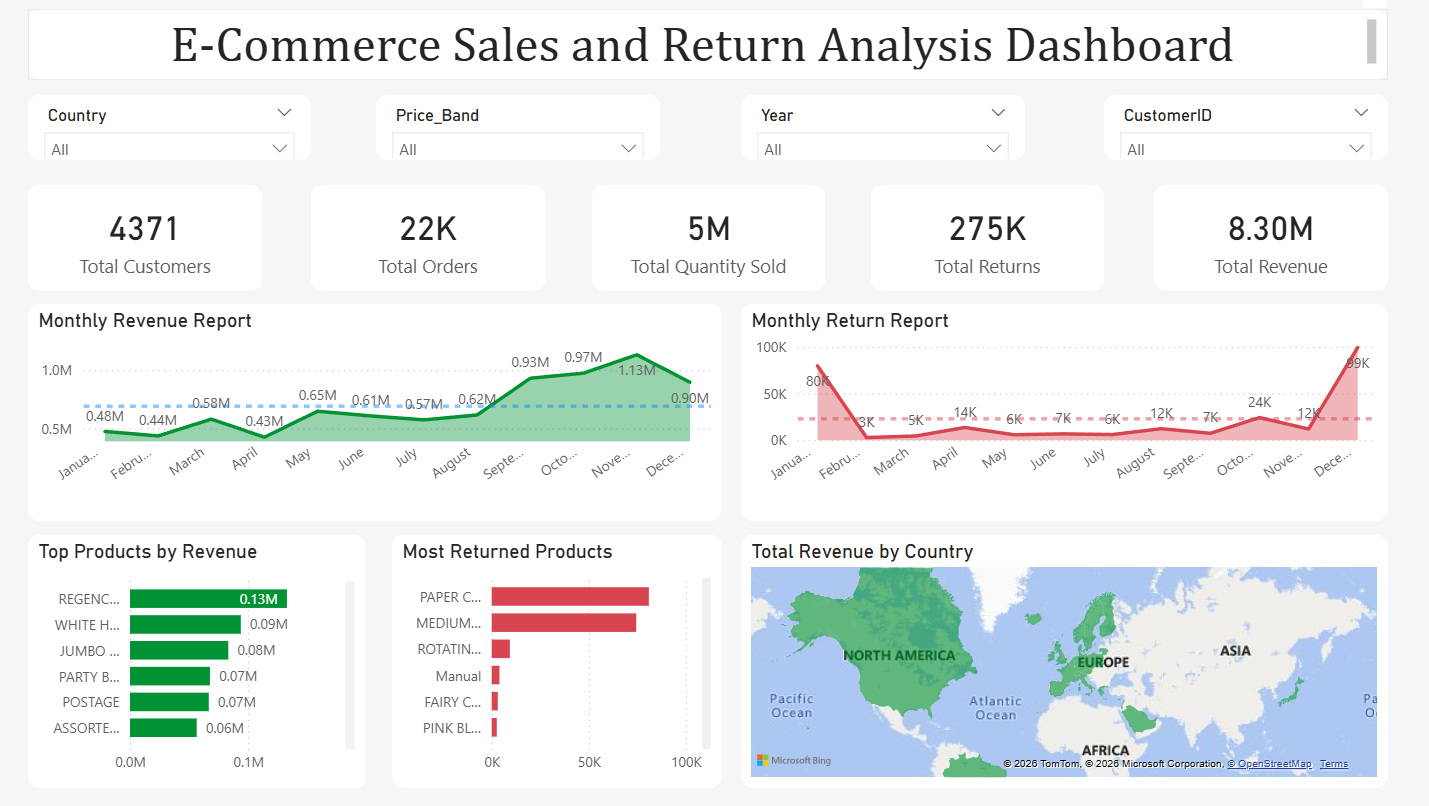

What the dashboard file says about the page in this screenshot:
{"tool":"powerbi","page":{"name":"Page 1","canvas":[1280,720],"ordinal":0},"visuals":[{"type":"card","fields":{"Values":["Count(actual_processed_retail_data.CustomerID)"]},"box":[53.8,173.1,201.8,91.5],"z":0},{"type":"lineChart","title":"Monthly Revenue Report","fields":{"Category":["actual_processed_retail_data.InvoiceDate.Variation.Date Hierarchy.Year","actual_processed_retail_data.InvoiceDate.Variation.Date Hierarchy.Quarter","actual_processed_retail_data.InvoiceDate.Variation.Date Hierarchy.Month","actual_processed_retail_data.InvoiceDate.Variation.Date Hierarchy.Day"],"Y":["actual_processed_retail_data.Total Revenue"]},"box":[53.8,276.3,598.3,187.5],"z":1000},{"type":"lineChart","title":"Monthly Return Report","fields":{"Category":["actual_processed_retail_data.InvoiceDate.Variation.Date Hierarchy.Year","actual_processed_retail_data.InvoiceDate.Variation.Date Hierarchy.Quarter","actual_processed_retail_data.InvoiceDate.Variation.Date Hierarchy.Month","actual_processed_retail_data.InvoiceDate.Variation.Date Hierarchy.Day"],"Y":["actual_processed_retail_data.Total Returns"]},"box":[668.3,276.3,557.9,187.5],"z":2000},{"type":"clusteredBarChart","title":"Top Products by Revenue","fields":{"Category":["actual_processed_retail_data.Description"],"Y":["actual_processed_retail_data.Total Revenue"]},"box":[53.8,475.4,290.6,218],"z":3000},{"type":"clusteredBarChart","title":"Most Returned Products","fields":{"Category":["actual_processed_retail_data.Description"],"Y":["actual_processed_retail_data.Total Returns"]},"box":[367.8,475.4,284.3,218],"z":4000},{"type":"slicer","fields":{"Values":["actual_processed_retail_data.Country"]},"box":[53.8,96,244,55.6],"z":5000},{"type":"slicer","fields":{"Values":["actual_processed_retail_data.InvoiceDate.Variation.Date Hierarchy.Year"]},"box":[668.3,96,244.9,55.6],"z":6000},{"type":"slicer","fields":{"Values":["actual_processed_retail_data.Price_Band"]},"box":[353.4,96,244.9,55.6],"z":7000},{"type":"slicer","fields":{"Values":["actual_processed_retail_data.CustomerID"]},"box":[981.3,96,244.9,55.6],"z":8000},{"type":"card","fields":{"Values":["actual_processed_retail_data.Total Revenue"]},"box":[1024.4,173.1,201.8,91.5],"z":9000},{"type":"card","fields":{"Values":["actual_processed_retail_data.Total Order"]},"box":[297.8,173.1,201.8,91.5],"z":10000},{"type":"card","fields":{"Values":["actual_processed_retail_data.Total Quantity Sold"]},"box":[540,173.1,200.9,91.5],"z":11000},{"type":"card","fields":{"Values":["actual_processed_retail_data.Total Returns"]},"box":[780.4,173.1,200.9,91.5],"z":12000},{"type":"filledMap","fields":{"Category":["actual_processed_retail_data.Country"]},"box":[668.3,475.4,557.9,218],"z":13000},{"type":"textbox","box":[53.8,21.5,1172.4,61],"z":14000}]}

Visuals, with their boxes in screenshot pixels (x1, y1, x2, y2), scaled from the page's 1280x720 canvas onto the 1429x806 screenshot:
card - Count(actual_processed_retail_data.CustomerID): BBox(60, 194, 285, 296)
"Monthly Revenue Report" lineChart: BBox(60, 309, 728, 519)
"Monthly Return Report" lineChart: BBox(746, 309, 1369, 519)
"Top Products by Revenue" clusteredBarChart: BBox(60, 532, 384, 776)
"Most Returned Products" clusteredBarChart: BBox(411, 532, 728, 776)
slicer - actual_processed_retail_data.Country: BBox(60, 107, 332, 170)
slicer - actual_processed_retail_data.InvoiceDate.Variation.Date Hierarchy.Year: BBox(746, 107, 1020, 170)
slicer - actual_processed_retail_data.Price_Band: BBox(395, 107, 668, 170)
slicer - actual_processed_retail_data.CustomerID: BBox(1096, 107, 1369, 170)
card - actual_processed_retail_data.Total Revenue: BBox(1144, 194, 1369, 296)
card - actual_processed_retail_data.Total Order: BBox(332, 194, 558, 296)
card - actual_processed_retail_data.Total Quantity Sold: BBox(603, 194, 827, 296)
card - actual_processed_retail_data.Total Returns: BBox(871, 194, 1096, 296)
filledMap - actual_processed_retail_data.Country: BBox(746, 532, 1369, 776)
textbox: BBox(60, 24, 1369, 92)
